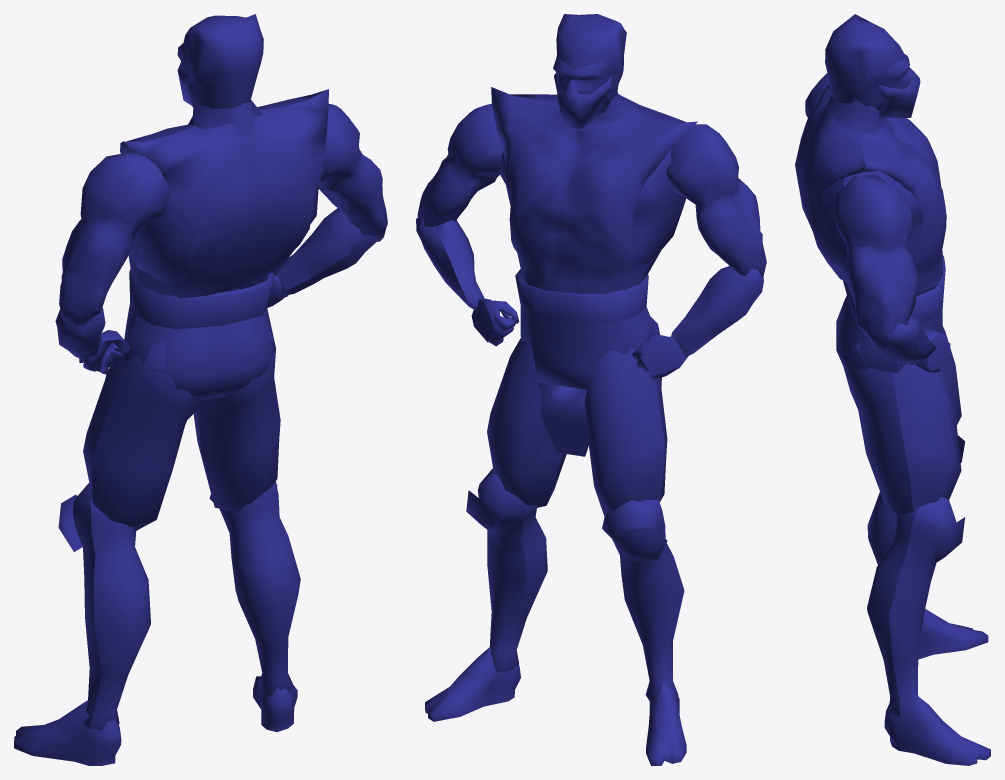
File: subzero.obj
3 views of the same model, side by side, from view 1: azimuth 30°, elevation 25°; view 2: azimuth 150°, elevation 25°; view 3: azimuth 270°, elevation 25° (orthographic). The views are drawn at different scales.
Parts seen in each view (by area): view 1: Obj_020-2_Material, Obj_020-11_Material, Obj_020-1_Material, Obj_020-12_Material, Obj_020-4_Material, Obj_020-16_Material, Obj_020-15_Material, Obj_020-3_Material, Obj_020-7_Material, Obj_020-8_Material, Obj_020-13_Material, Obj_020-5_Material (+3 smaller); view 2: Obj_020-2_Material, Obj_020-11_Material, Obj_020-1_Material, Obj_020-4_Material, Obj_020-16_Material, Obj_020-15_Material, Obj_020-12_Material, Obj_020-3_Material, Obj_020-7_Material, Obj_020-5_Material, Obj_020-17_Material, Obj_020-8_Material (+6 smaller); view 3: Obj_020-2_Material, Obj_020-15_Material, Obj_020-7_Material, Obj_020-16_Material, Obj_020-3_Material, Obj_020-17_Material, Obj_020-1_Material, Obj_020-13_Material, Obj_020-8_Material, Obj_020-12_Material, Obj_020-9_Material, Obj_020-14_Material (+2 smaller).
Boxes of the visible parts, left/top/right/bottom form: Obj_020-2_Material: left=120, top=89, right=328, bottom=298; Obj_020-11_Material: left=83, top=338, right=200, bottom=531; Obj_020-1_Material: left=124, top=262, right=275, bottom=400; Obj_020-12_Material: left=72, top=483, right=150, bottom=730; Obj_020-4_Material: left=59, top=153, right=171, bottom=326; Obj_020-16_Material: left=209, top=481, right=300, bottom=696; Obj_020-15_Material: left=193, top=330, right=280, bottom=512; Obj_020-3_Material: left=177, top=14, right=263, bottom=108; Obj_020-7_Material: left=318, top=104, right=387, bottom=241; Obj_020-8_Material: left=274, top=208, right=377, bottom=294; Obj_020-13_Material: left=14, top=700, right=121, bottom=765; Obj_020-5_Material: left=55, top=307, right=105, bottom=360; Obj_020-2_Material: left=491, top=87, right=697, bottom=294; Obj_020-11_Material: left=584, top=316, right=667, bottom=517; Obj_020-1_Material: left=515, top=269, right=656, bottom=389; Obj_020-4_Material: left=666, top=124, right=766, bottom=277; Obj_020-16_Material: left=478, top=468, right=547, bottom=672; Obj_020-15_Material: left=487, top=338, right=566, bottom=507; Obj_020-12_Material: left=602, top=499, right=684, bottom=701; Obj_020-3_Material: left=553, top=14, right=626, bottom=128; Obj_020-7_Material: left=417, top=103, right=502, bottom=227; Obj_020-5_Material: left=671, top=266, right=763, bottom=356; Obj_020-17_Material: left=425, top=647, right=520, bottom=721; Obj_020-8_Material: left=416, top=217, right=484, bottom=309; Obj_020-2_Material: left=795, top=84, right=946, bottom=295; Obj_020-15_Material: left=842, top=341, right=961, bottom=517; Obj_020-7_Material: left=834, top=175, right=918, bottom=348; Obj_020-16_Material: left=867, top=496, right=956, bottom=717; Obj_020-3_Material: left=825, top=14, right=920, bottom=117; Obj_020-17_Material: left=884, top=694, right=990, bottom=765; Obj_020-1_Material: left=836, top=255, right=945, bottom=372; Obj_020-13_Material: left=918, top=608, right=988, bottom=659; Obj_020-8_Material: left=872, top=314, right=935, bottom=364; Obj_020-12_Material: left=867, top=492, right=923, bottom=625; Obj_020-9_Material: left=915, top=328, right=950, bottom=372; Obj_020-14_Material: left=935, top=517, right=964, bottom=563.
Bounding box in the file's own units: 3.15 × 6.33 × 1.64.
